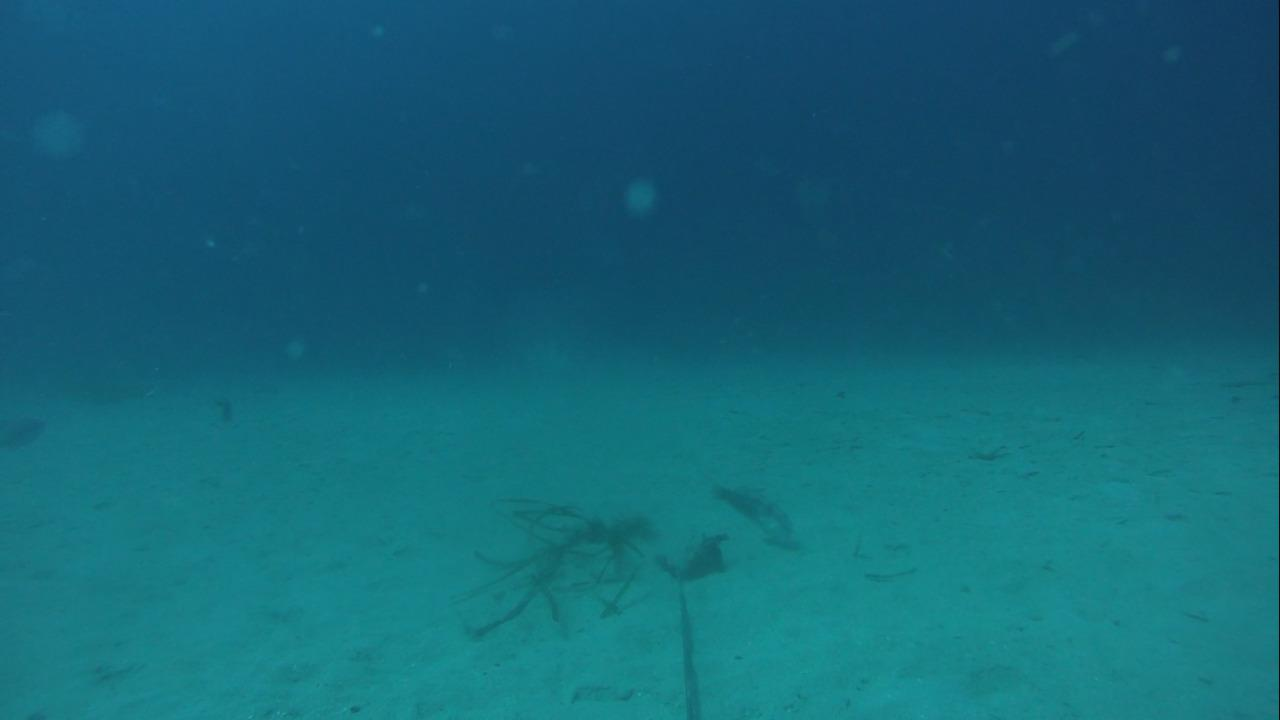raor: (700, 473, 795, 547)
